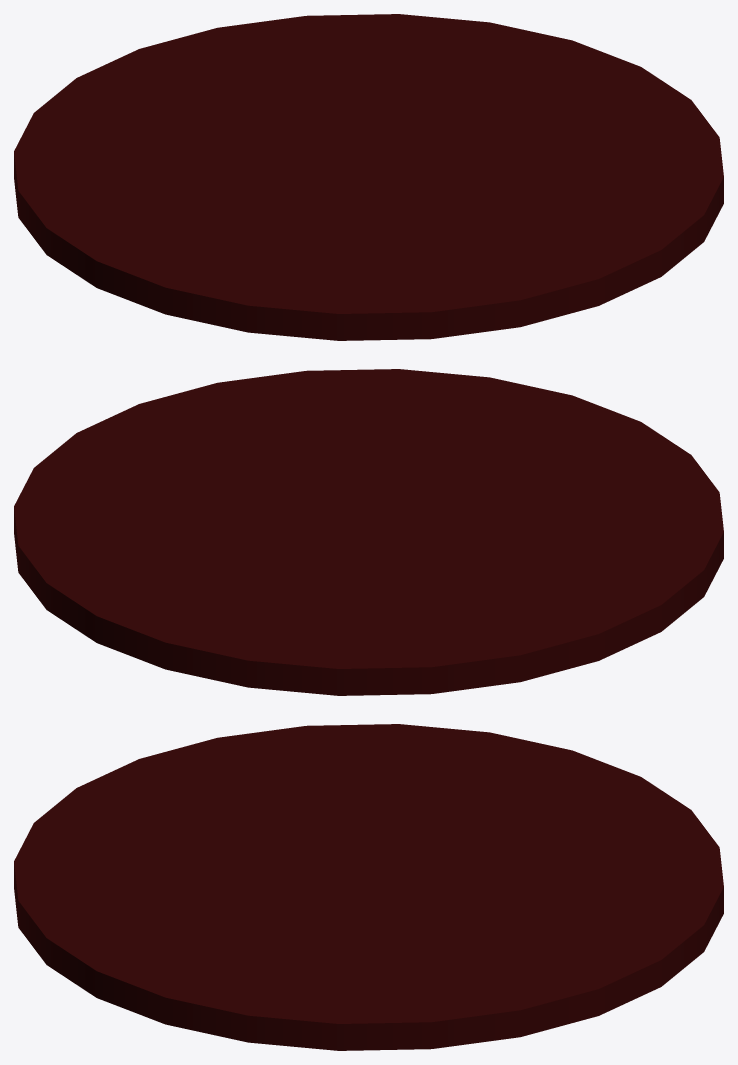
The model's file is original-43.obj.
3 renders of one model, top to bottom at view 1: azimuth 30°, elevation 25°; view 2: azimuth 150°, elevation 25°; view 3: azimuth 270°, elevation 25°, orthographic.
Parts seen in each view (by area): view 1: group_23/ID247#ID247; view 2: group_23/ID247#ID247; view 3: group_23/ID247#ID247.
Part boxes in pixels (box(x1,y1,x2,y2)): group_23/ID247#ID247: box(14, 14, 723, 340); group_23/ID247#ID247: box(14, 369, 723, 695); group_23/ID247#ID247: box(14, 724, 723, 1050).
Bounding box in the file's own units: 0.0839 × 0.00351 × 0.0839.
